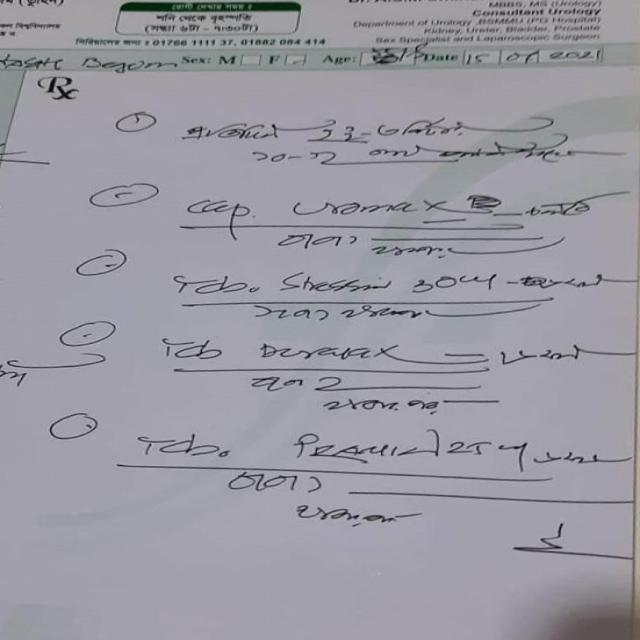Duralax: (250, 332, 405, 368)
Pramin: (281, 424, 451, 468)
Stressnil: (257, 267, 408, 301)
Uromax: (284, 180, 462, 226)
